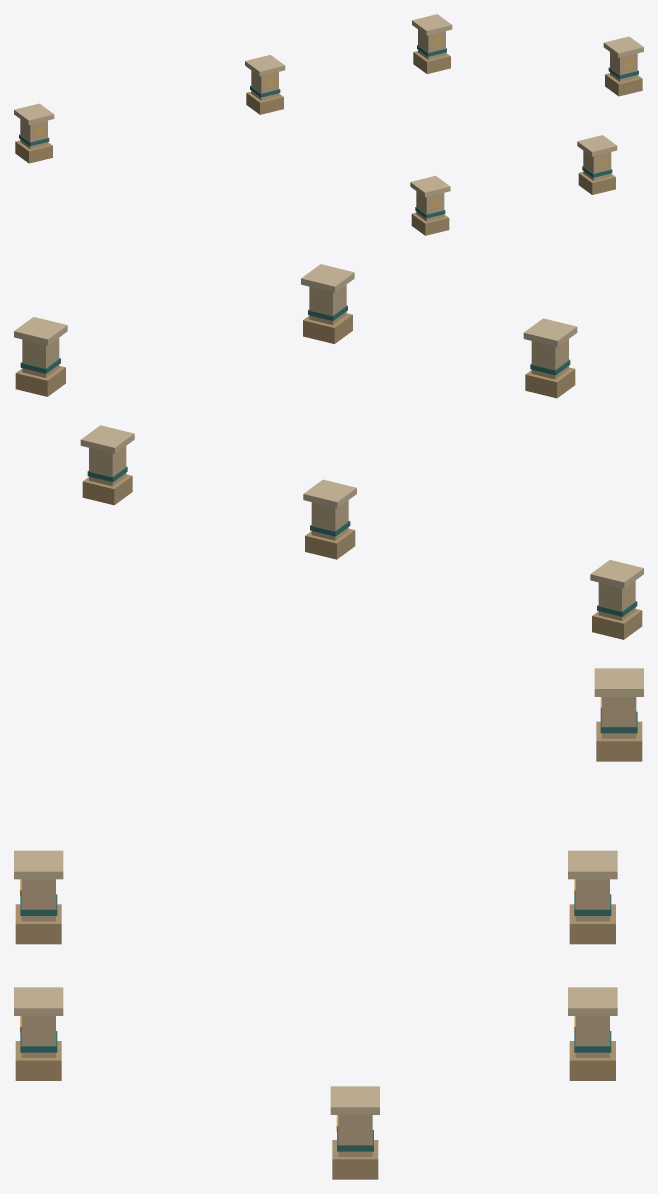
File: courtyard-lanterns.glb
3 views of the same model, one above another, from view 1: azimuth 30°, elevation 25°; view 2: azimuth 150°, elevation 25°; view 3: azimuth 270°, elevation 25° (orthographic). The views are drawn at different scales.
Visible parts, largest first — view 1: courtyard-lantern-surface (×6); view 2: courtyard-lantern-surface (×6); view 3: courtyard-lantern-surface (×6).
Part boxes in pixels (bbox=[...]): courtyard-lantern-surface (×6): bbox=[14, 14, 643, 235]; courtyard-lantern-surface (×6): bbox=[14, 264, 643, 639]; courtyard-lantern-surface (×6): bbox=[14, 668, 643, 1179].
Bounding box in the file's own units: 15.75 × 1.23 × 9.55.
